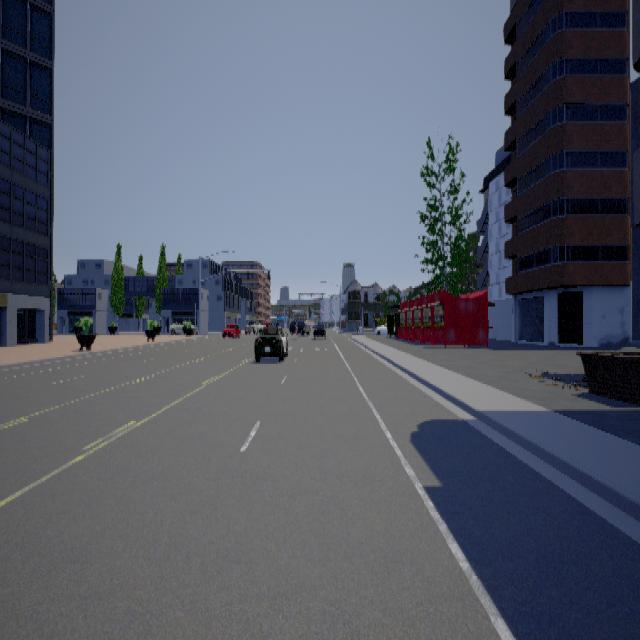vehicle: (244, 318, 287, 361), (286, 314, 311, 346), (220, 317, 242, 340), (308, 318, 328, 341)
